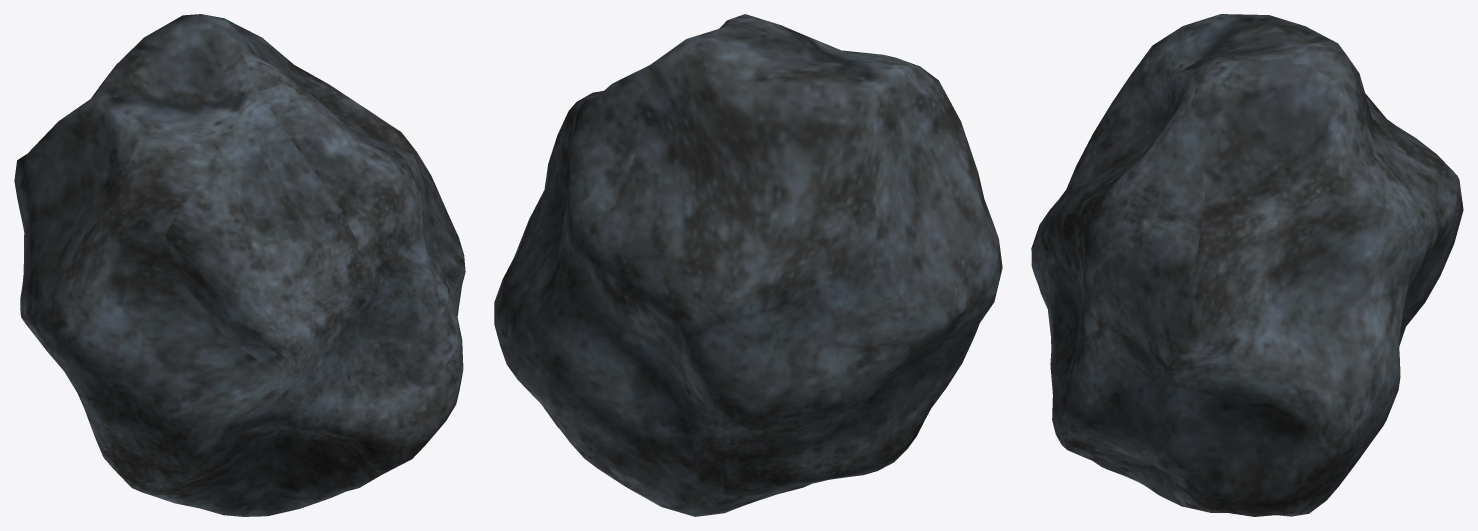
The model's file is rock.gltf.
3 renders of one model, left to right at view 1: azimuth 30°, elevation 25°; view 2: azimuth 150°, elevation 25°; view 3: azimuth 270°, elevation 25°, orthographic. The views are drawn at different scales.
Visible parts, largest first — view 1: Icosphere.001; view 2: Icosphere.001; view 3: Icosphere.001.
Part boxes in pixels (bbox=[...]): Icosphere.001: bbox=[14, 14, 465, 516]; Icosphere.001: bbox=[494, 14, 1002, 516]; Icosphere.001: bbox=[1031, 14, 1463, 516].
Bounding box in the file's own units: 2.45 × 2.63 × 2.28.
Materials: 1 (1 with a texture image).
